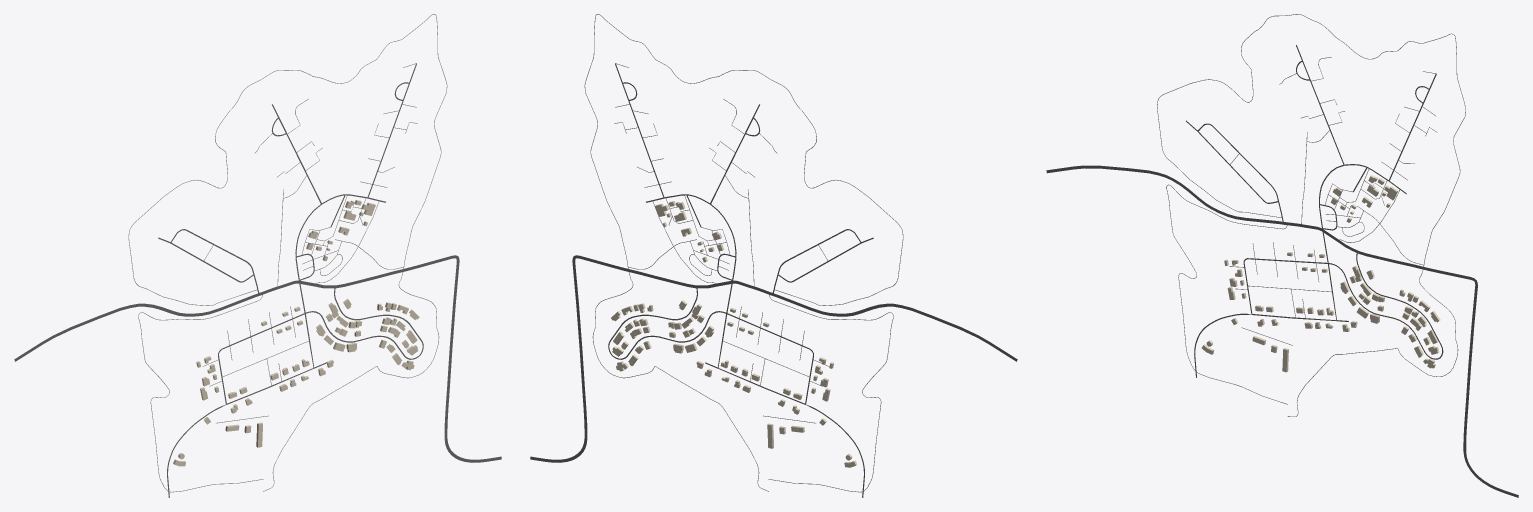
Rendered from historic-palestine-07_21_3493_3151.glb.
3 views of the same model, side by side, from view 1: azimuth 30°, elevation 25°; view 2: azimuth 150°, elevation 25°; view 3: azimuth 330°, elevation 25° (orthographic). The views are drawn at different scales.
Visible parts, largest first — view 1: Road 3581, Road .010, Road 3581.001; view 2: Road 3581, Road .010, Road 3581.001; view 3: Road 3581, Road .010, Road 3581.001.
Boxes of the visible parts, left/top/right/bottom form: Road 3581: left=299, top=255, right=501, bottom=462; Road .010: left=128, top=14, right=447, bottom=491; Road 3581.001: left=14, top=280, right=299, bottom=361; Road 3581: left=530, top=255, right=731, bottom=462; Road .010: left=584, top=14, right=903, bottom=491; Road 3581.001: left=733, top=280, right=1017, bottom=361; Road 3581: left=1323, top=229, right=1518, bottom=497; Road .010: left=1157, top=14, right=1465, bottom=416; Road 3581.001: left=1046, top=165, right=1322, bottom=231.
Size of the model in its own units: 1375 by 1245 by 8.7.
